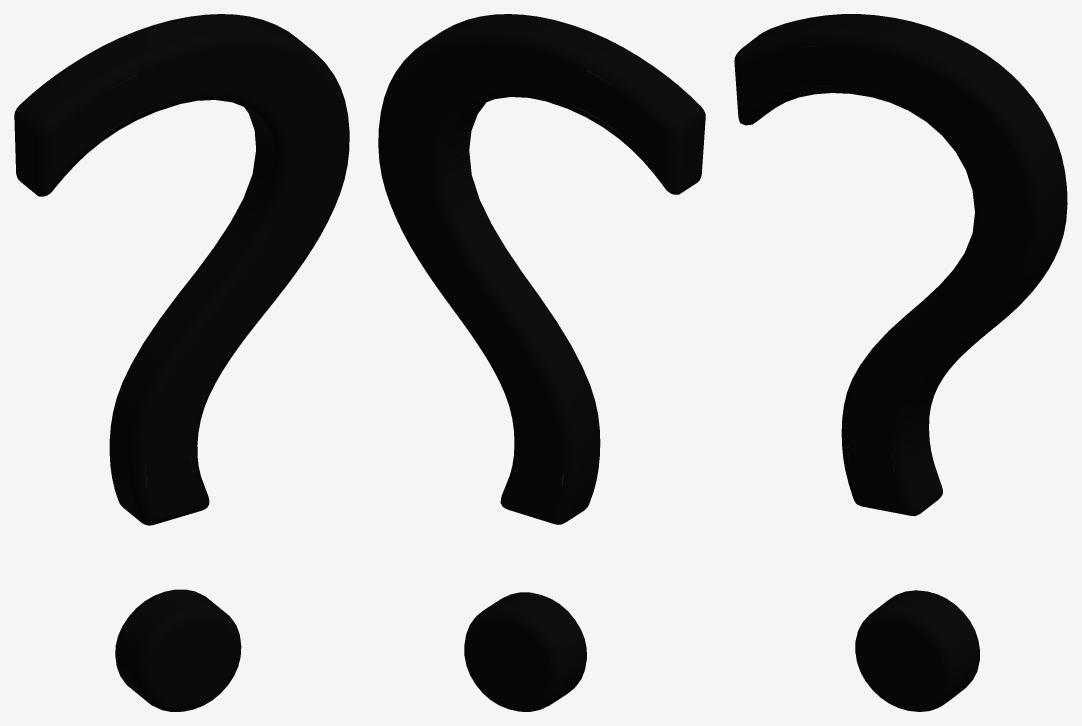
The model's file is que.fbx.
3 renders of one model, left to right at view 1: azimuth 30°, elevation 25°; view 2: azimuth 150°, elevation 25°; view 3: azimuth 330°, elevation 25°, orthographic. The views are drawn at different scales.
Parts seen in each view (by area): view 1: node_id30; view 2: node_id30; view 3: node_id30.
Boxes of the visible parts, x1,y1,x2,y2 form: node_id30: (14, 14, 349, 711); node_id30: (378, 14, 705, 711); node_id30: (734, 14, 1067, 711).
Size of the model in its own units: 0.2456 by 0.5127 by 0.0598.
1 material, 1 textured.
